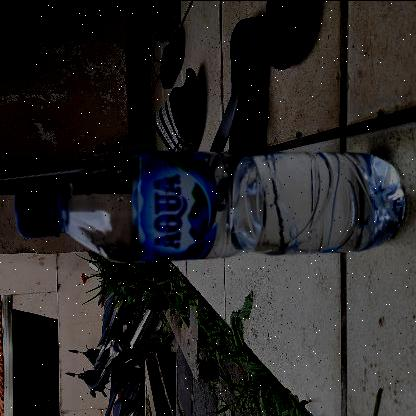Plastic Bottle: (12, 145, 412, 265)
